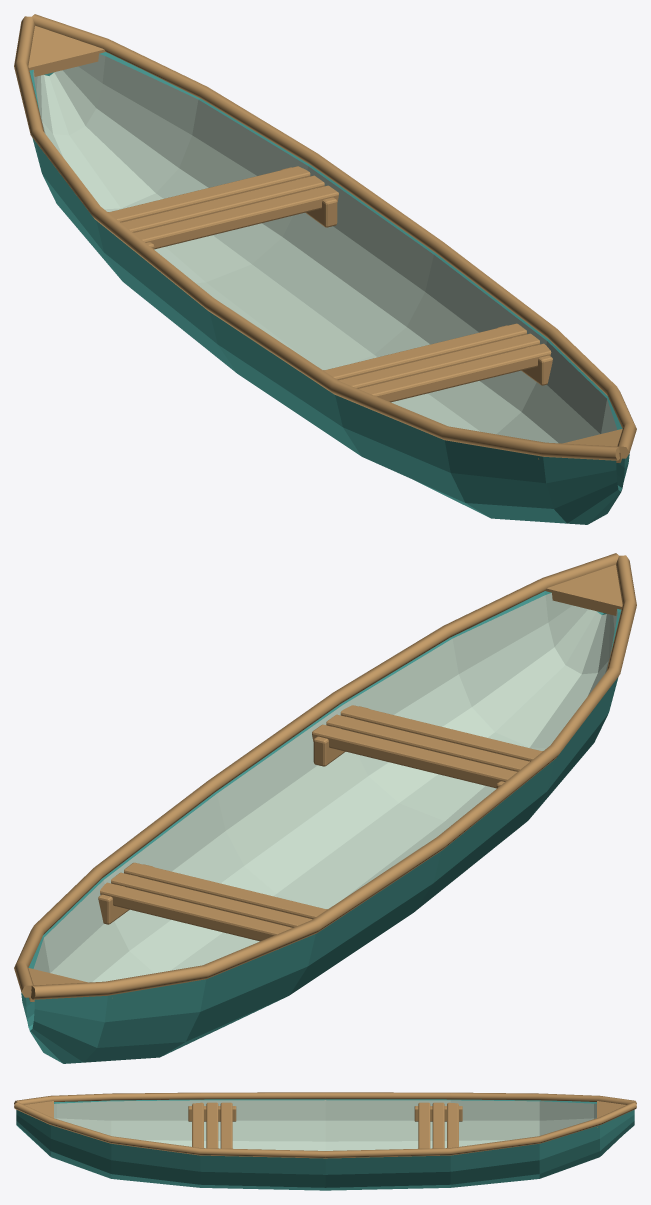
Rendered from canoe.glb.
3 views of the same model, one above another, from view 1: azimuth 30°, elevation 25°; view 2: azimuth 150°, elevation 25°; view 3: azimuth 270°, elevation 25° (orthographic). The views are drawn at different scales.
Visible parts, largest first — view 1: Closed-thickness open canoe hull, Wooden canoe gunwale, Wooden canoe gunwale.001, Canoe wooden seat slat.003, Canoe wooden seat slat, Canoe wooden seat slat.004, Canoe wooden seat slat.002, Canoe wooden seat slat.005, Canoe wooden seat slat.001, Canoe wooden end deck.001; view 2: Closed-thickness open canoe hull, Wooden canoe gunwale, Wooden canoe gunwale.001, Canoe wooden seat slat.002, Canoe wooden seat slat.005, Canoe wooden seat slat.001, Canoe wooden seat slat.003, Canoe wooden seat slat, Canoe wooden seat slat.004, Canoe wooden end deck; view 3: Closed-thickness open canoe hull, Wooden canoe gunwale.001, Wooden canoe gunwale, Canoe wooden seat slat.002, Canoe wooden seat slat.003, Canoe wooden seat slat.001, Canoe wooden seat slat.004, Canoe wooden seat slat, Canoe wooden seat slat.005, Canoe wooden end deck.001, Canoe wooden end deck, Canoe seat support ledger (+1 smaller).
Boxes of the visible parts, left/top/right/bottom form: Closed-thickness open canoe hull: left=29, top=52, right=629, bottom=524; Wooden canoe gunwale: left=14, top=16, right=619, bottom=460; Wooden canoe gunwale.001: left=32, top=14, right=636, bottom=458; Canoe wooden seat slat.003: left=134, top=185, right=338, bottom=249; Canoe wooden seat slat: left=358, top=343, right=551, bottom=402; Canoe wooden seat slat.004: left=121, top=175, right=324, bottom=232; Canoe wooden seat slat.002: left=324, top=323, right=526, bottom=380; Canoe wooden seat slat.005: left=108, top=166, right=310, bottom=222; Canoe wooden seat slat.001: left=338, top=333, right=539, bottom=388; Canoe wooden end deck.001: left=28, top=25, right=105, bottom=76; Closed-thickness open canoe hull: left=21, top=591, right=621, bottom=1063; Wooden canoe gunwale: left=31, top=555, right=636, bottom=999; Wooden canoe gunwale.001: left=14, top=553, right=618, bottom=997; Canoe wooden seat slat.002: left=312, top=724, right=516, bottom=788; Canoe wooden seat slat.005: left=100, top=882, right=292, bottom=941; Canoe wooden seat slat.001: left=326, top=714, right=529, bottom=771; Canoe wooden seat slat.003: left=124, top=862, right=326, bottom=919; Canoe wooden seat slat: left=340, top=705, right=542, bottom=761; Canoe wooden seat slat.004: left=111, top=872, right=312, bottom=927; Canoe wooden end deck: left=545, top=564, right=622, bottom=615; Closed-thickness open canoe hull: left=16, top=1099, right=634, bottom=1190; Wooden canoe gunwale.001: left=14, top=1102, right=636, bottom=1158; Wooden canoe gunwale: left=14, top=1092, right=636, bottom=1105; Canoe wooden seat slat.002: left=220, top=1102, right=232, bottom=1148; Canoe wooden seat slat.003: left=418, top=1102, right=430, bottom=1148; Canoe wooden seat slat.001: left=206, top=1102, right=218, bottom=1148; Canoe wooden seat slat.004: left=432, top=1102, right=444, bottom=1148; Canoe wooden seat slat: left=192, top=1102, right=203, bottom=1147; Canoe wooden seat slat.005: left=447, top=1102, right=458, bottom=1147; Canoe wooden end deck.001: left=597, top=1101, right=625, bottom=1127; Canoe wooden end deck: left=25, top=1101, right=53, bottom=1117; Canoe seat support ledger: left=188, top=1106, right=236, bottom=1121.
Size of the model in its own units: 0.9699 by 0.5794 by 4.13.
